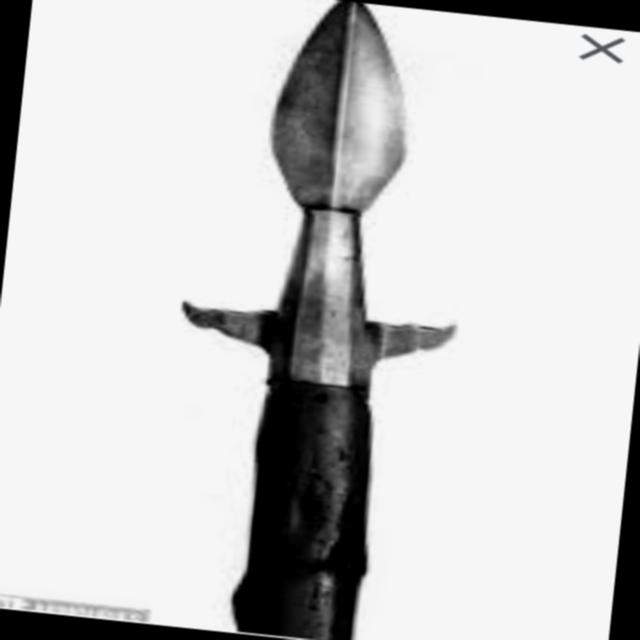spear: (131, 0, 519, 640)
